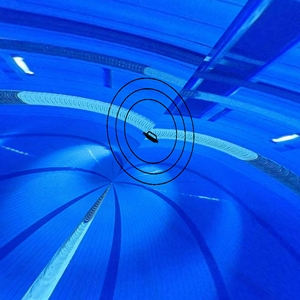circle: (103, 77, 207, 189)
submarine: (141, 128, 165, 150)
